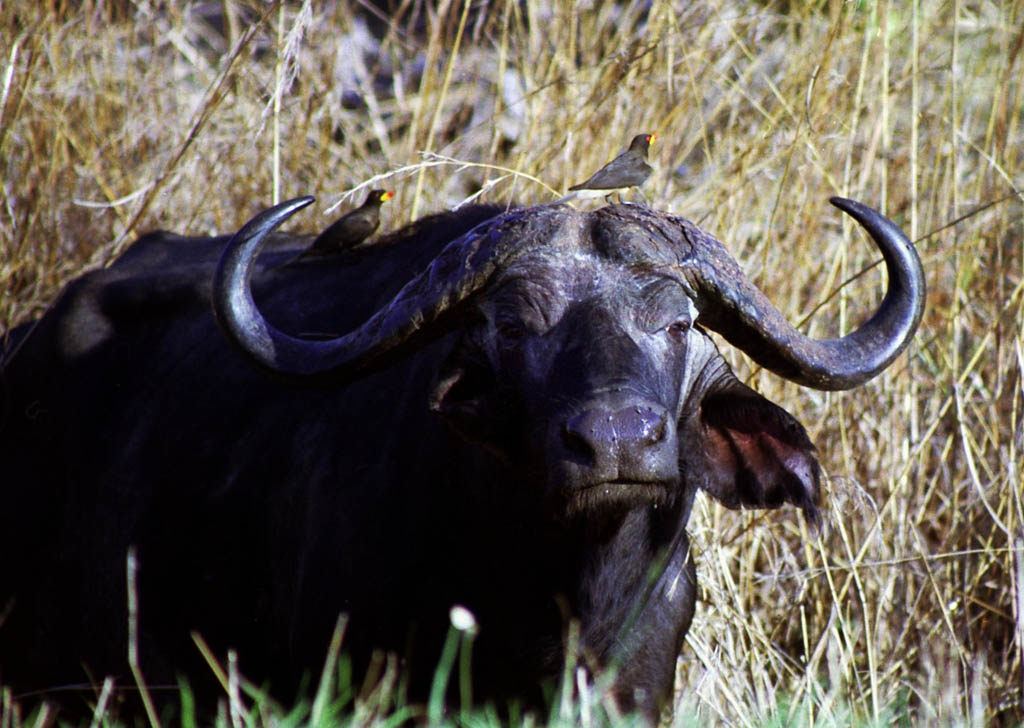buffalo: (0, 192, 927, 724)
